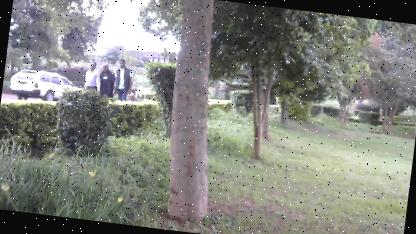car: (5, 64, 90, 110)
person: (110, 55, 136, 103), (95, 57, 120, 102), (80, 60, 102, 100)
tree: (149, 0, 241, 228), (198, 0, 318, 165)
